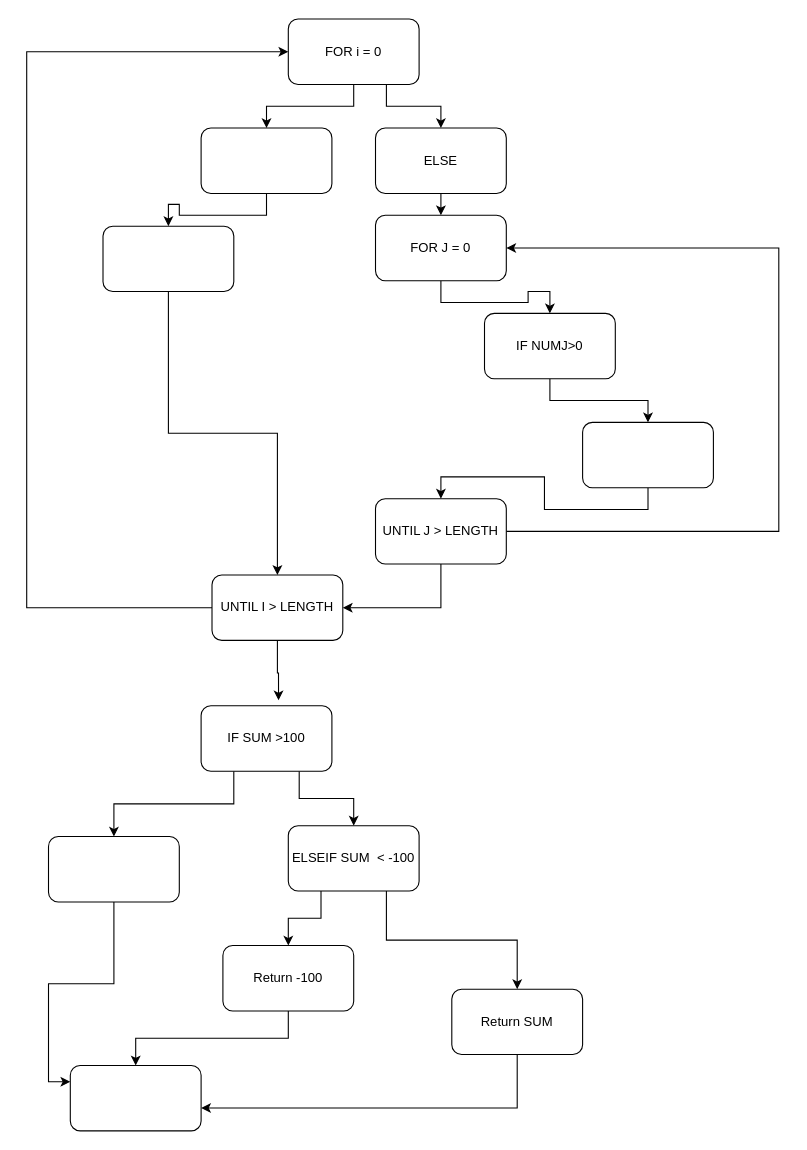
The diagram is 807 pixels wide and 1150 high, and some of its shapes have lost their labels. The centre of each missing label's shape, as x and y in pixels:
"FIN" goes at [135,1097].
"IF NUMI>0" goes at [266,160].
"Numeros I ++" goes at [168,258].
"Numeros J ++" goes at [647,454].
"Return 100" goes at [113,868].
